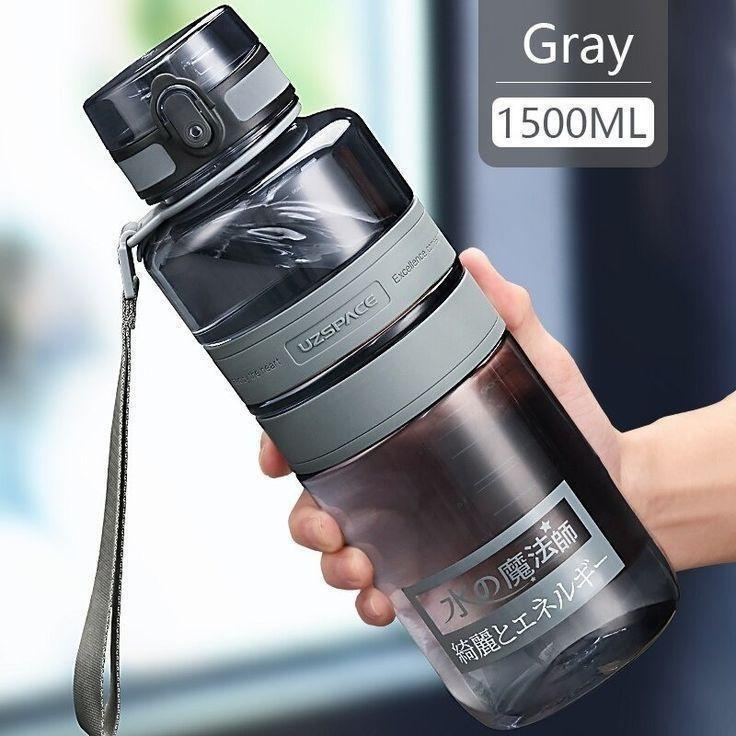gym bottle: (83, 6, 678, 730)
